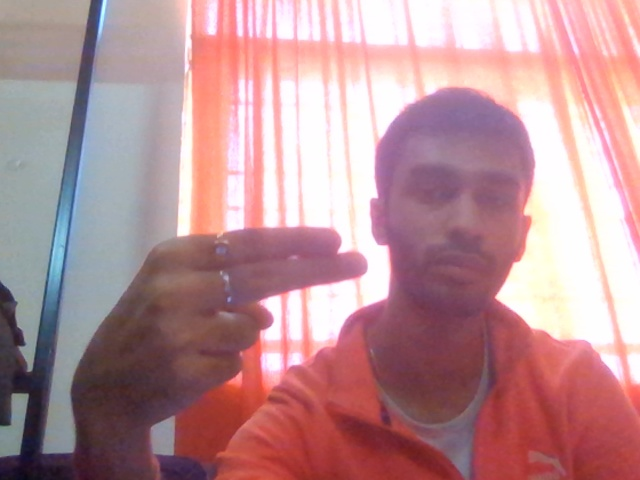H: (60, 188, 413, 461)
